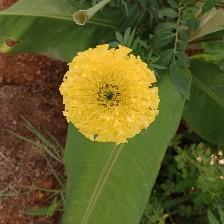marigold: (59, 43, 161, 147)
